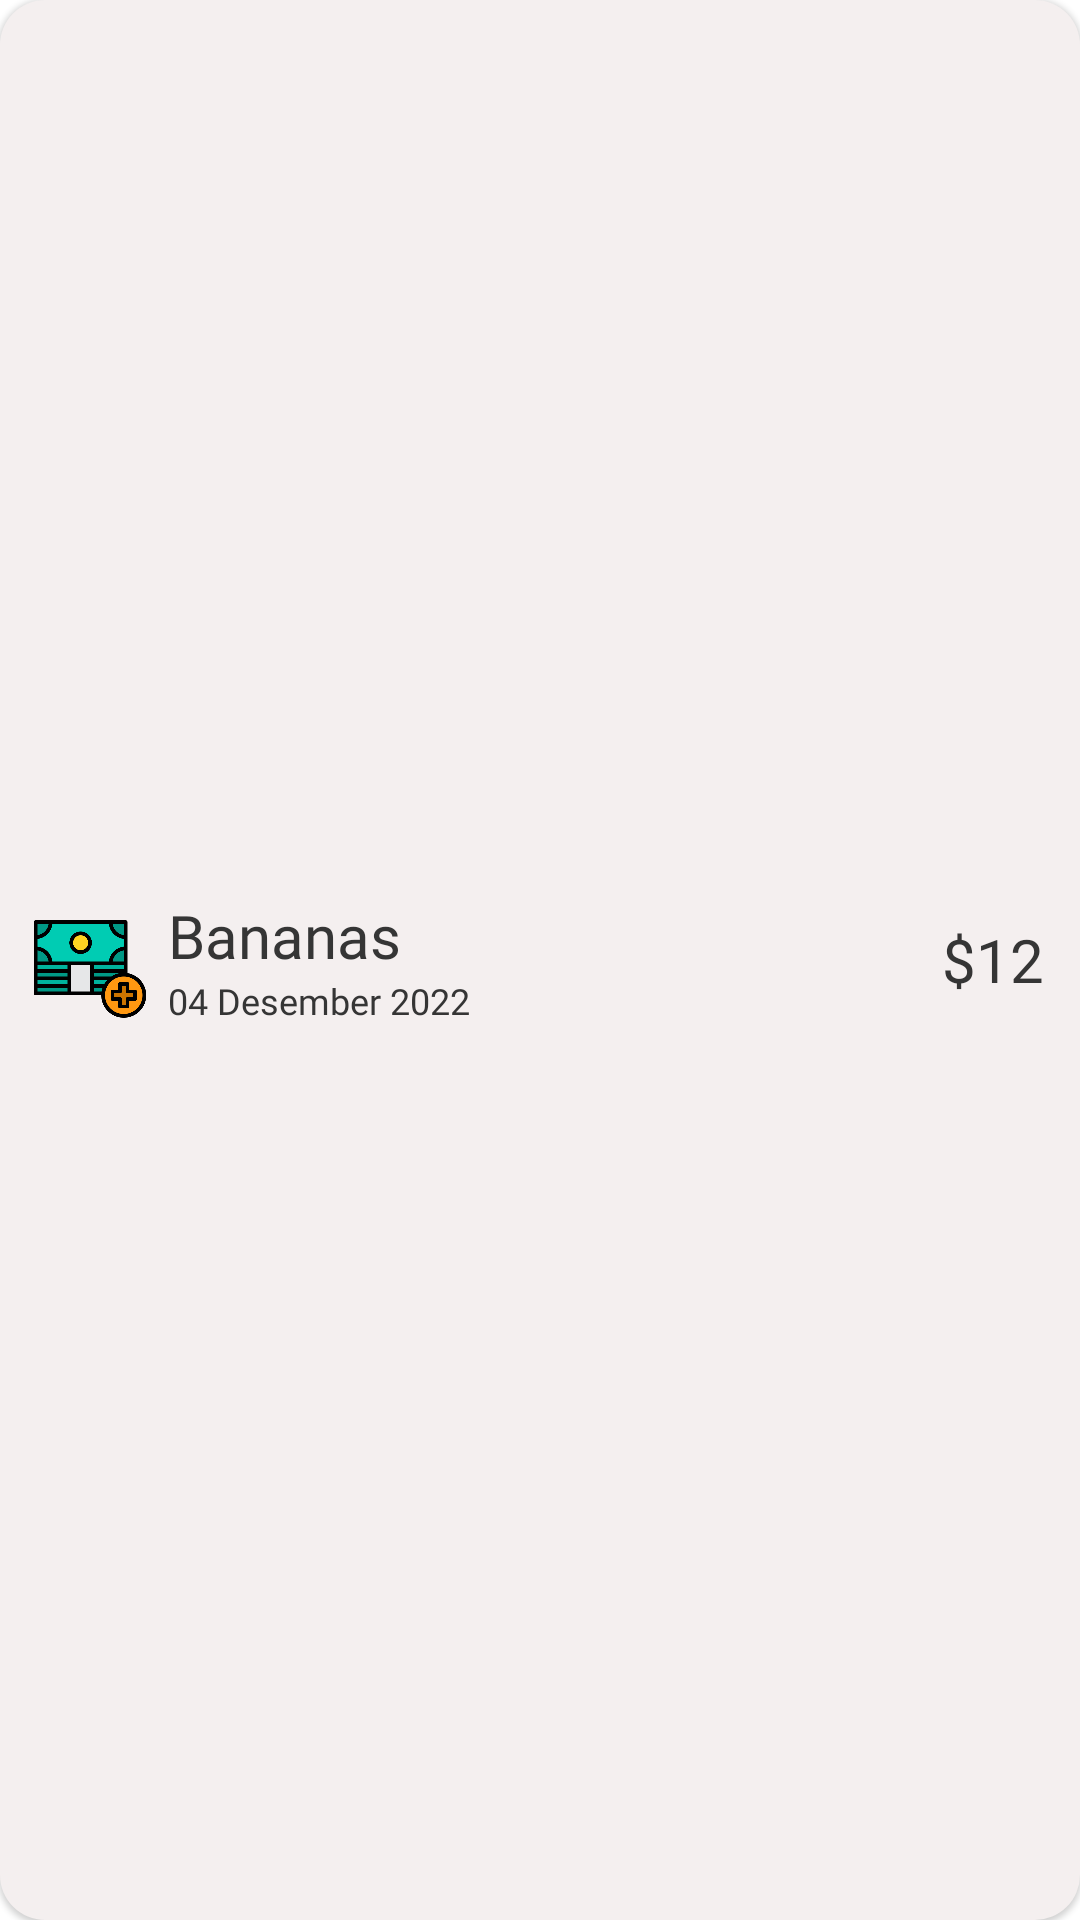

Screen size 1080w x 1920h. Icon name, then its box in pixels as (x1, y1, x2, y2):
money: (34, 920, 146, 1018)
